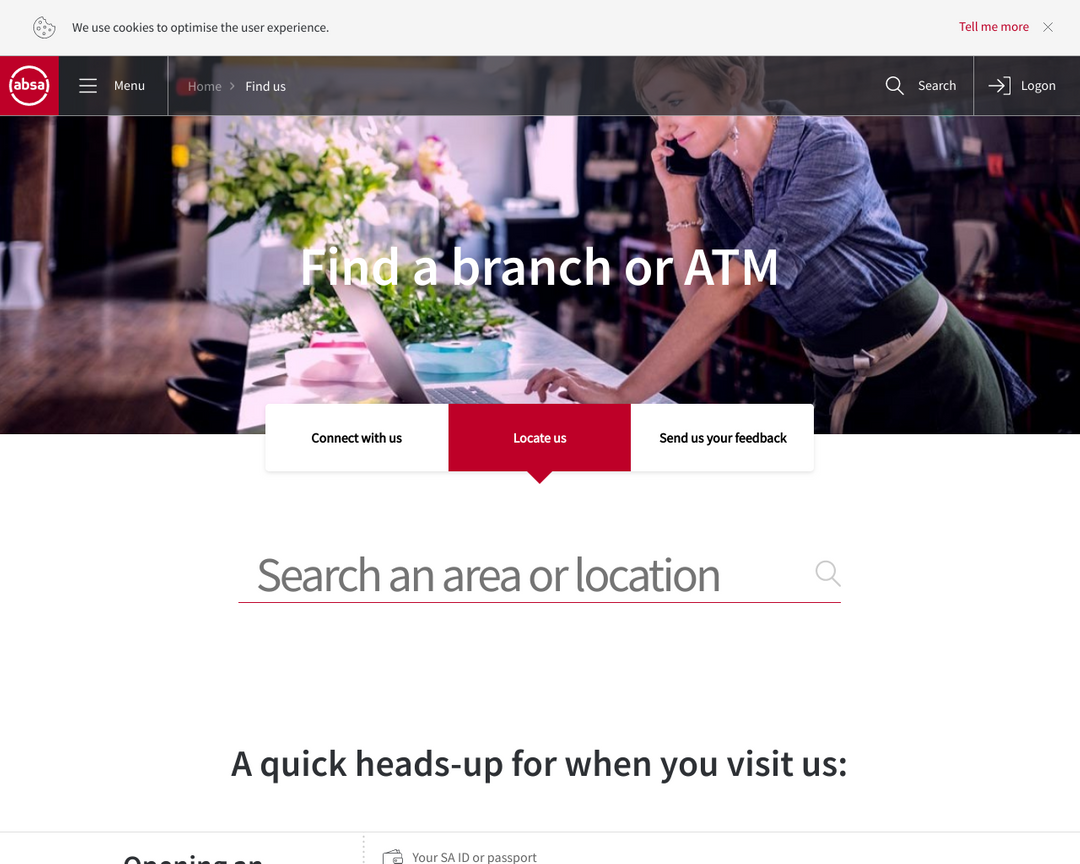ABSA: (5, 64, 52, 108)
